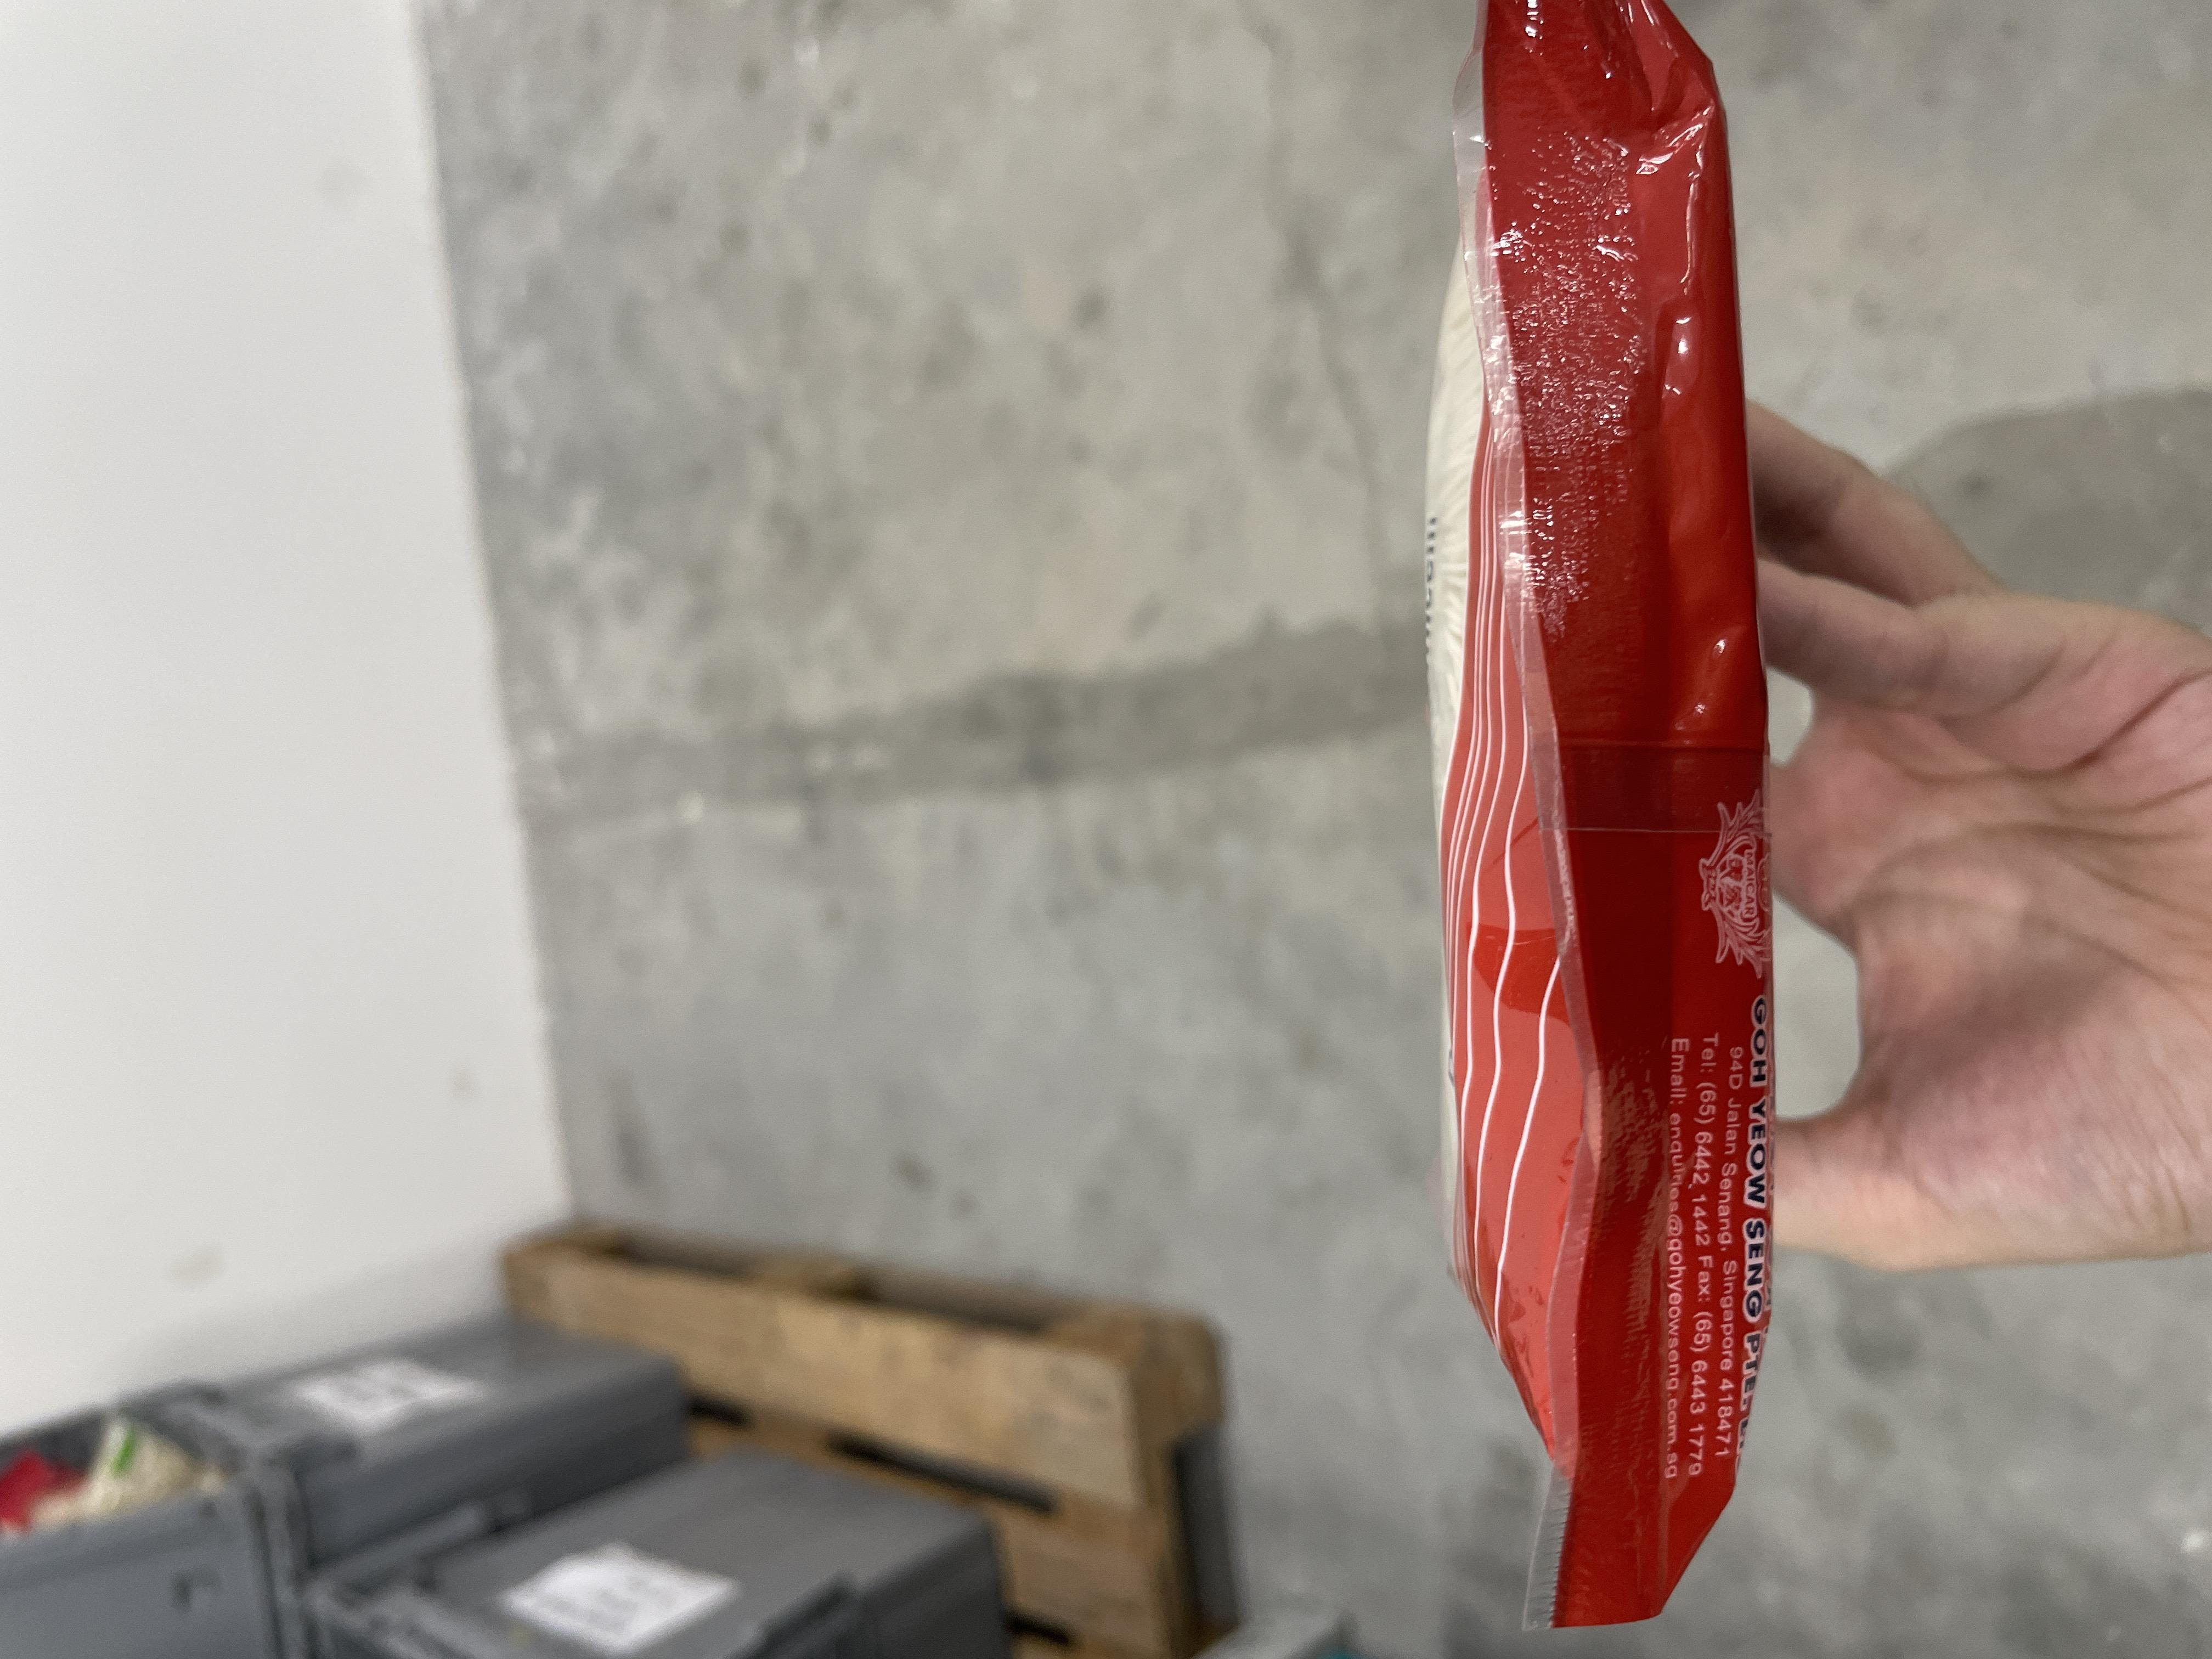object_name: (129, 1497, 1609, 1659)
